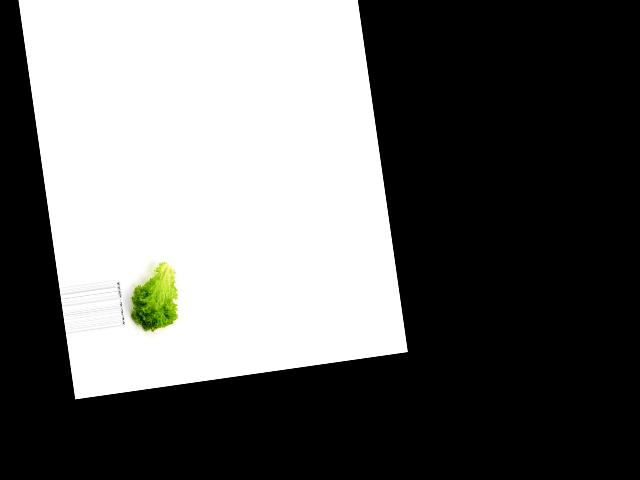lettuce: (124, 260, 185, 336)
